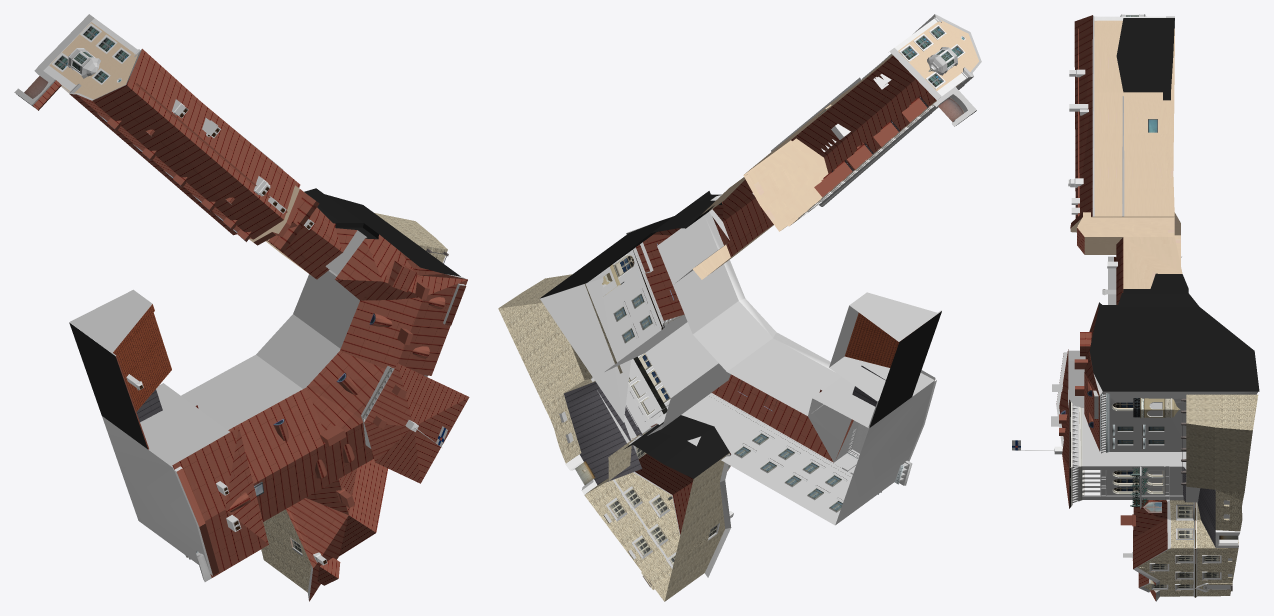
File: Kohtu_4.obj
The picture shows the model from 3 angles, left to right: view 1: azimuth 30°, elevation 25°; view 2: azimuth 150°, elevation 25°; view 3: azimuth 270°, elevation 25°; orthographic projection. The views are drawn at different scales.
Parts seen in each view (by area): view 1: Kohtu_4_1; view 2: Kohtu_4_1; view 3: Kohtu_4_1.
Part boxes in pixels (x1,y1,x2,y2): Kohtu_4_1: (14,14,469,601); Kohtu_4_1: (498,14,981,601); Kohtu_4_1: (1012,14,1259,601).
Bounding box in the file's own units: 58.51 × 78.46 × 34.97.
